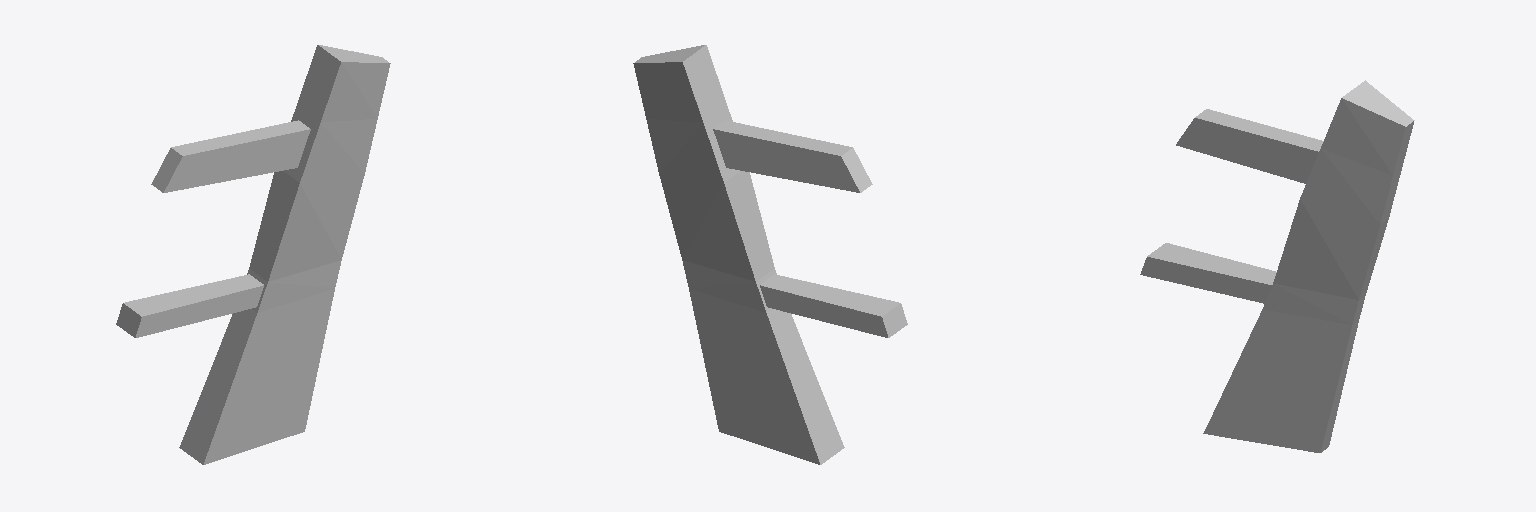
File: tail_temporary.obj
3 renders of one model, left to right at view 1: azimuth 30°, elevation 25°; view 2: azimuth 150°, elevation 25°; view 3: azimuth 330°, elevation 25°, orthographic.
Bounding box in the file's own units: 5.31 × 7.19 × 0.8431.